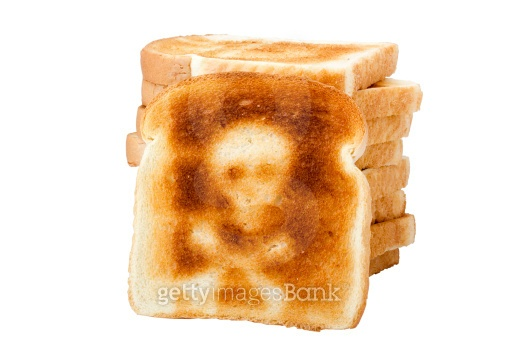slice of bread: (118, 29, 444, 318), (130, 69, 372, 331)
